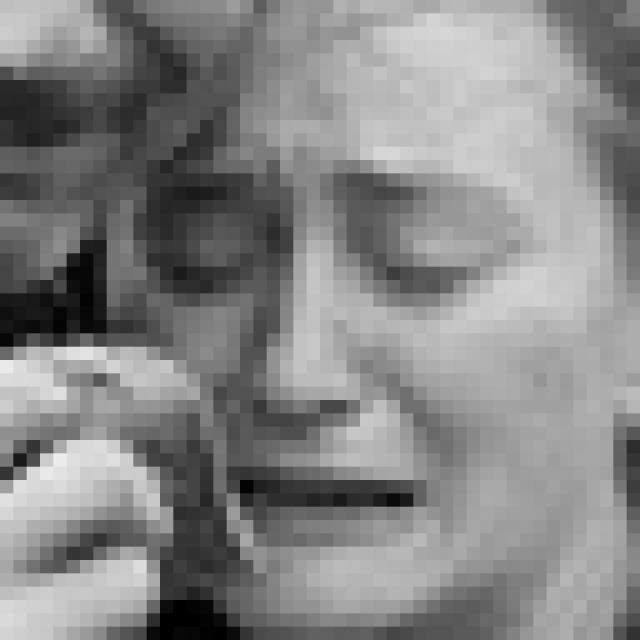sad: (150, 142, 534, 556)
